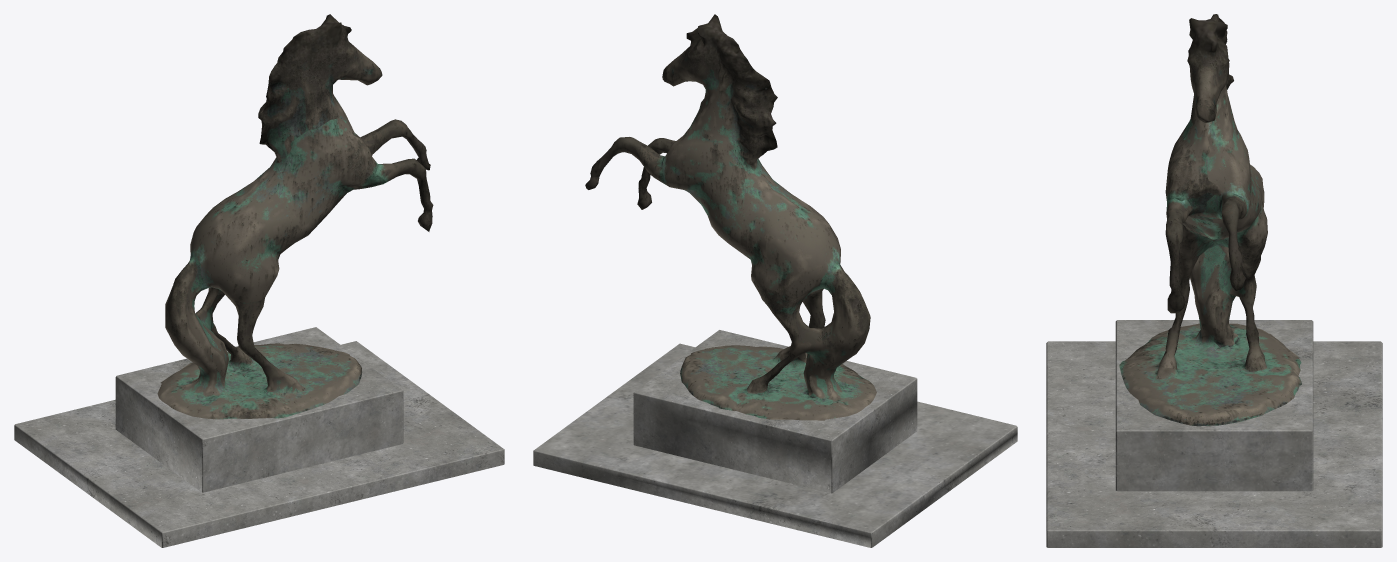
Rendered from horse_statue_bronze.glb.
3 views of the same model, side by side, from view 1: azimuth 30°, elevation 25°; view 2: azimuth 150°, elevation 25°; view 3: azimuth 270°, elevation 25° (orthographic). The views are drawn at different scales.
Visible parts, largest first — view 1: defaultMaterial, defaultMaterial.001; view 2: defaultMaterial, defaultMaterial.001; view 3: defaultMaterial, defaultMaterial.001.
Boxes of the visible parts, <box> form: defaultMaterial: <box>14,327,504,547</box>; defaultMaterial.001: <box>157,14,433,419</box>; defaultMaterial: <box>533,330,1017,547</box>; defaultMaterial.001: <box>585,14,876,420</box>; defaultMaterial: <box>1046,320,1382,547</box>; defaultMaterial.001: <box>1119,14,1301,426</box>.
Bounding box in the file's own units: 1.76 × 2 × 1.28.
2 materials, 2 textured.
